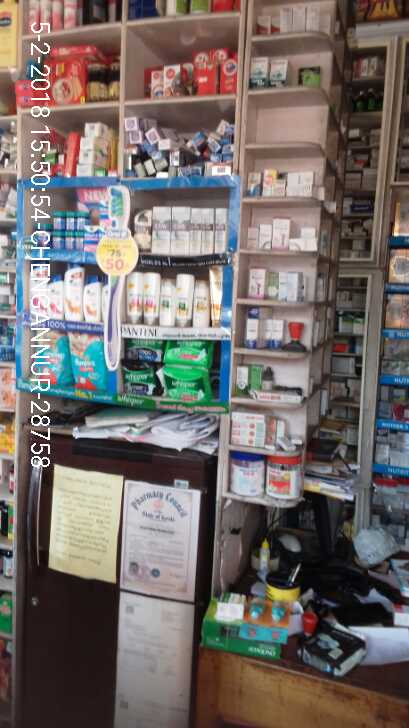vicks: (34, 210, 100, 248)
